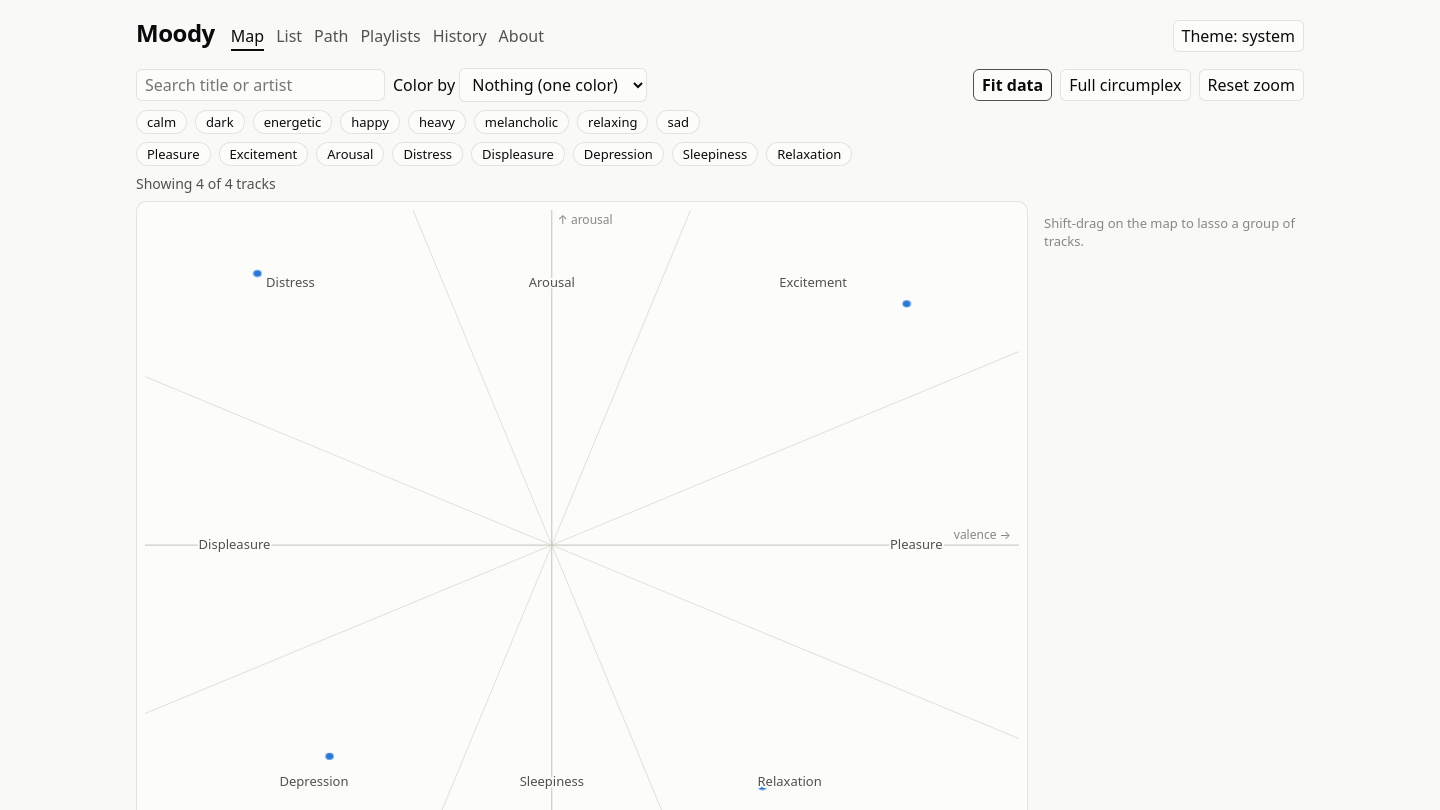
Test: octant toggles filter by the 2026 octant
Click the button "Excitement" at (263, 154), box [218, 142, 308, 166]
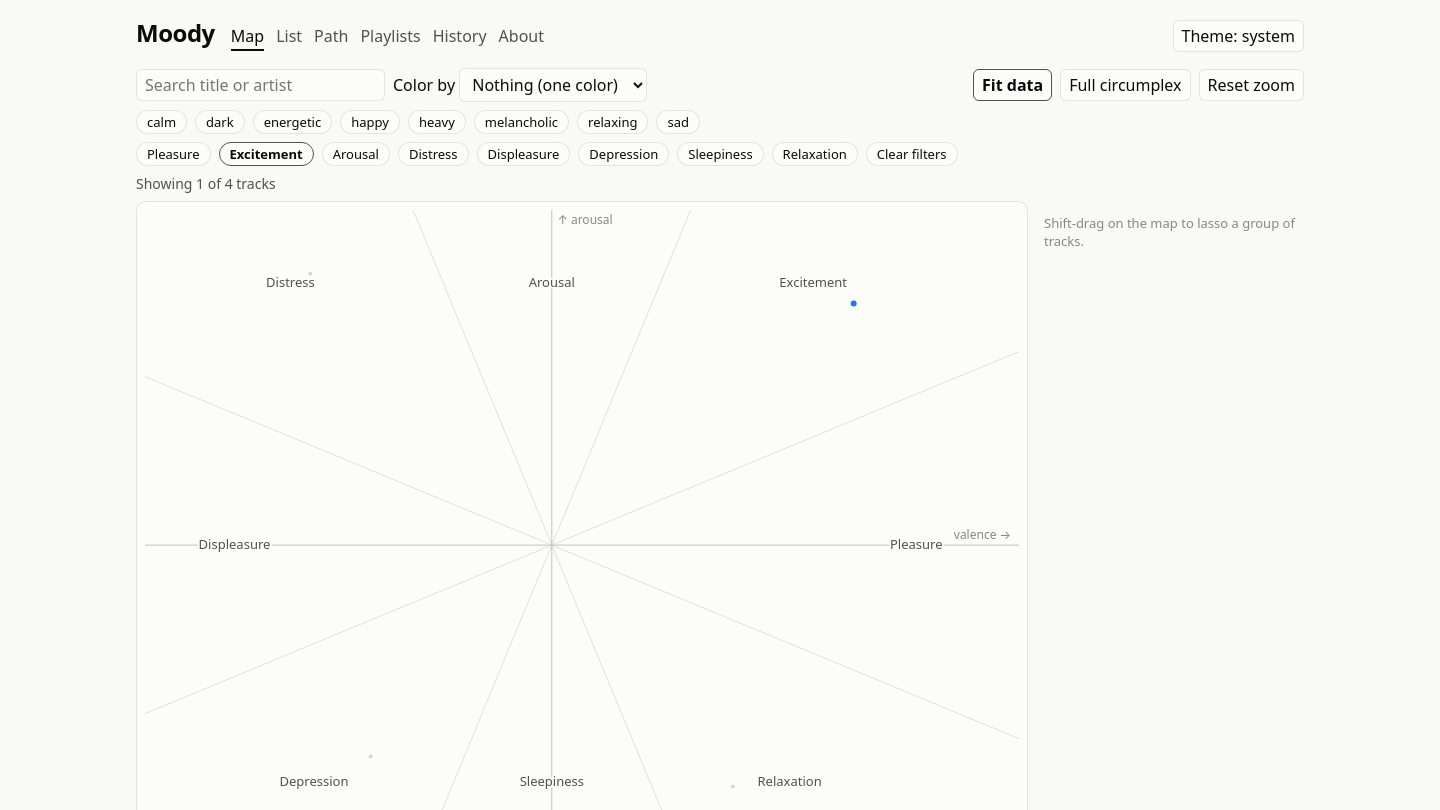
Expected: the text "Showing 1 of 4 tracks" is shown, [136, 174, 276, 193]
